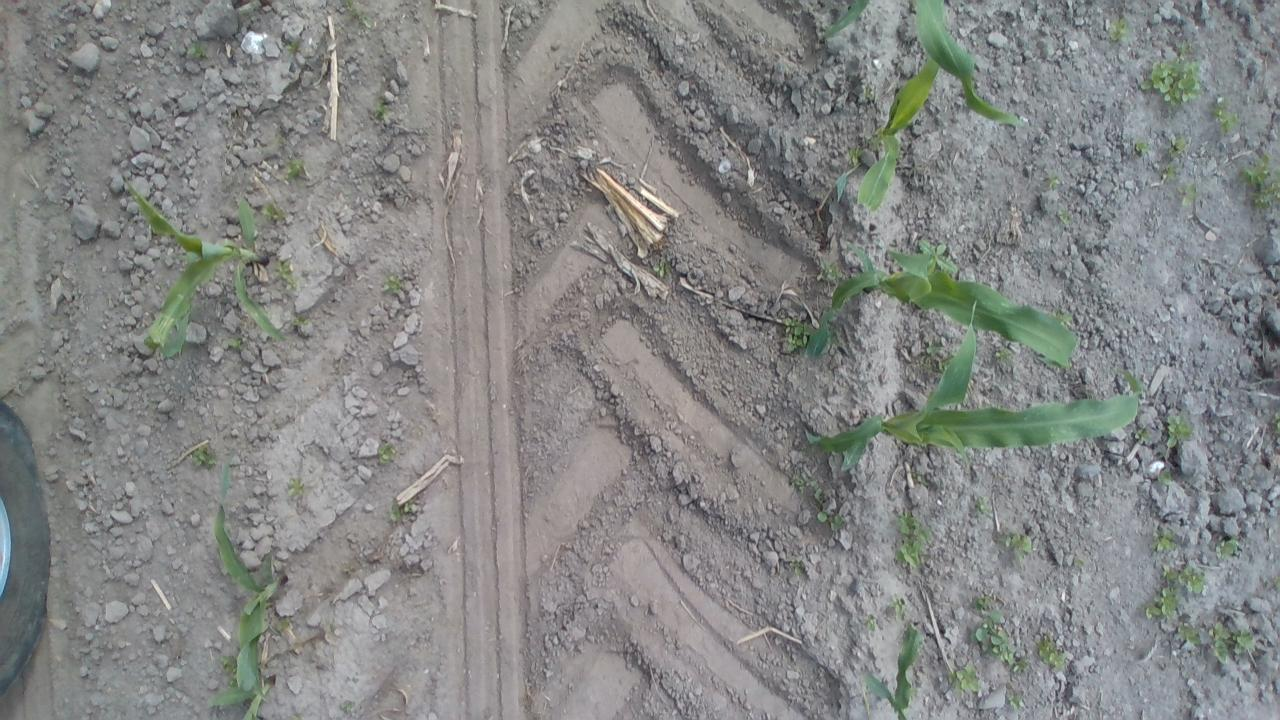Maize: (796, 313, 1154, 470), (808, 238, 1078, 380), (823, 2, 998, 215), (119, 170, 288, 360), (206, 453, 297, 718), (861, 621, 930, 717)
Weeds: (966, 591, 1019, 670), (1136, 52, 1204, 110), (893, 508, 933, 575), (1202, 619, 1256, 666), (1240, 149, 1278, 214), (1140, 583, 1182, 623), (942, 662, 987, 698), (1032, 630, 1070, 672), (996, 525, 1036, 564), (1160, 563, 1208, 593), (1164, 408, 1196, 452), (1224, 623, 1262, 659), (1208, 96, 1242, 136), (781, 311, 814, 352), (386, 496, 422, 527), (274, 258, 302, 296), (916, 343, 954, 370), (187, 440, 219, 472), (1104, 14, 1134, 48), (1148, 524, 1179, 556), (816, 506, 847, 536), (1164, 133, 1192, 166), (1172, 180, 1202, 209), (814, 258, 844, 286), (348, 3, 376, 33), (1174, 619, 1202, 647), (379, 269, 406, 298), (1213, 534, 1243, 560), (260, 200, 292, 224), (282, 156, 309, 184), (184, 37, 212, 64), (1000, 684, 1027, 712), (368, 99, 394, 127), (285, 472, 310, 500), (372, 441, 400, 465), (217, 650, 240, 679), (885, 593, 909, 618), (1156, 160, 1180, 185), (844, 144, 868, 168), (788, 554, 812, 578), (789, 472, 814, 495), (1129, 138, 1154, 160), (282, 32, 305, 55), (271, 128, 295, 150), (858, 81, 880, 105), (224, 330, 246, 354), (971, 494, 992, 519), (286, 310, 312, 330), (1042, 169, 1064, 192), (993, 342, 1015, 365), (652, 256, 672, 280), (334, 699, 362, 716), (1055, 205, 1074, 228), (861, 613, 881, 634), (1132, 424, 1152, 445), (1154, 468, 1174, 486)
